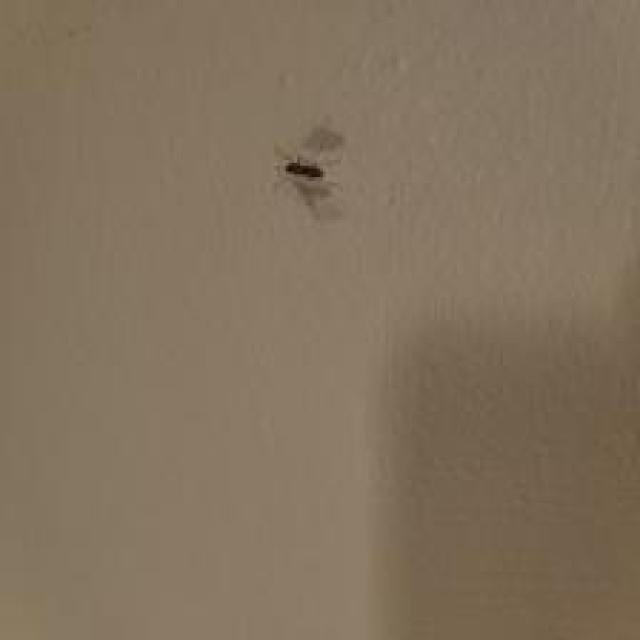Culex: (284, 154, 324, 180)
